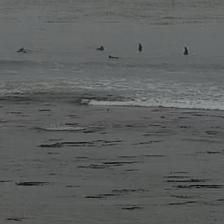surfer: (96, 45, 105, 51), (18, 47, 28, 52), (183, 47, 188, 55), (138, 43, 143, 51), (109, 55, 119, 59)
